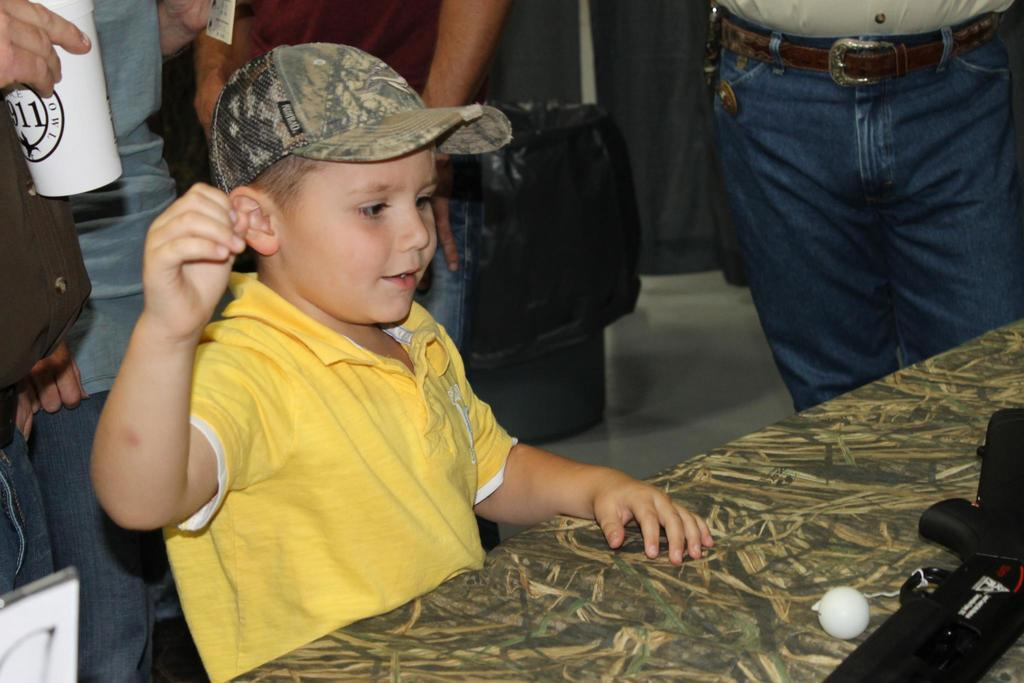Hat: (210, 41, 515, 194)
